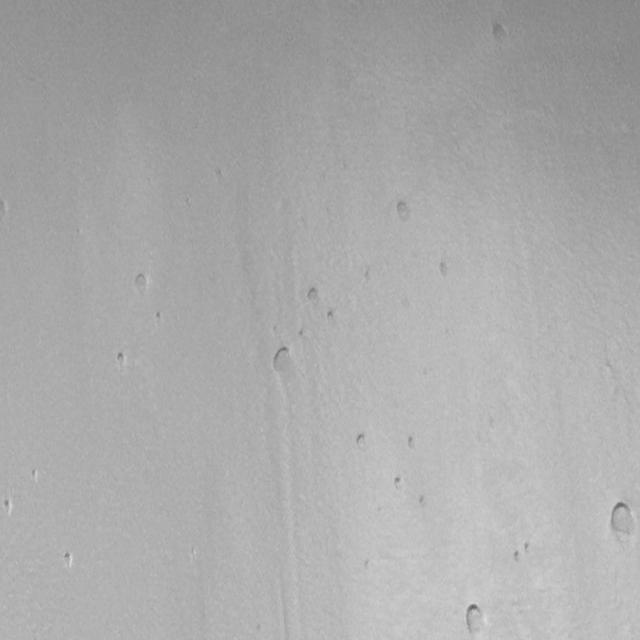pin holes: (604, 498, 640, 552), (462, 601, 490, 636), (272, 346, 296, 374), (392, 198, 414, 224), (487, 20, 508, 47), (132, 272, 153, 298), (435, 257, 456, 281), (209, 164, 230, 187), (305, 283, 324, 307), (514, 540, 534, 562), (61, 550, 77, 570), (354, 432, 370, 451), (392, 474, 408, 493), (0, 198, 11, 224), (115, 351, 129, 370), (2, 498, 15, 518), (406, 434, 420, 452), (325, 308, 340, 324), (521, 540, 535, 556), (511, 549, 524, 565), (28, 468, 40, 484), (154, 309, 166, 325), (416, 494, 428, 510), (297, 328, 309, 342)
